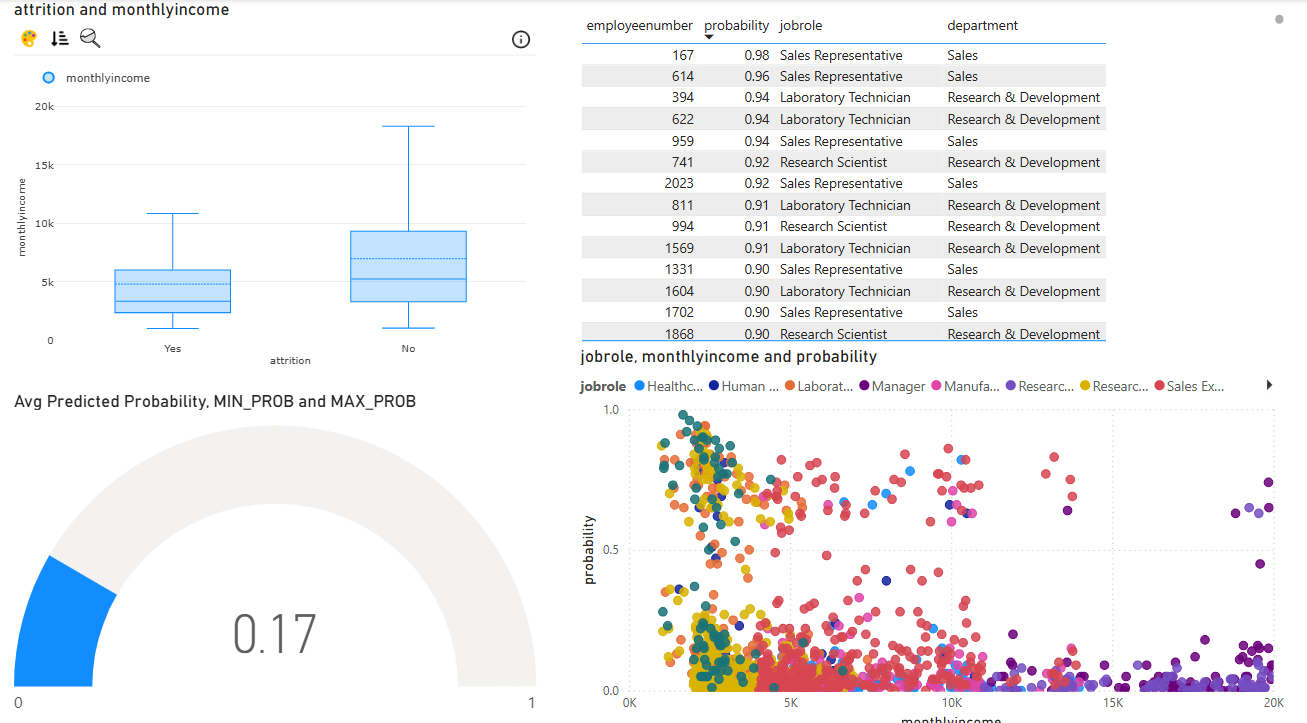

This screenshot's page, from the dashboard's own definition file:
{"tool":"powerbi","page":{"name":"Page 2","canvas":[1280,720],"ordinal":1},"visuals":[{"type":"boxandwhiskerwithpoints3B3DF5C11B683E5DB4E630DD7899B035","fields":{"col_2":["public int_hr_attrition_features.monthlyincome"],"col_0":["public int_hr_attrition_features.attrition"]},"box":[9.8,0,520.9,373],"z":0},{"type":"gauge","fields":{"Y":["public ml_attrition_predictions.Avg Predicted Probability"],"MaxValue":["public ml_attrition_predictions.MAX_PROB"],"MinValue":["public ml_attrition_predictions.MIN_PROB"]},"box":[10,383,521,337],"z":1000},{"type":"tableEx","fields":{"Values":["select","public ml_attrition_predictions.employeenumber","public ml_attrition_predictions.probability","public int_hr_attrition_features.jobrole","public int_hr_attrition_features.department"]},"box":[563.7,9.8,698.2,349.7],"z":2000},{"type":"scatterChart","fields":{"X":["public int_hr_attrition_features.monthlyincome"],"Y":["public ml_attrition_predictions.probability"],"Series":["public int_hr_attrition_features.jobrole"]},"box":[563.7,338.7,698.2,381.5],"z":2001}]}

Visuals, with their boxes in screenshot pixels (x1, y1, x2, y2), scaled from the page's 1280x720 canvas onto the 1307x723 screenshot:
boxandwhiskerwithpoints3B3DF5C11B683E5DB4E630DD7899B035 - public int_hr_attrition_features.monthlyincome x public int_hr_attrition_features.attrition: <bbox>10, 0, 542, 375</bbox>
gauge - public ml_attrition_predictions.Avg Predicted Probability x public ml_attrition_predictions.MAX_PROB: <bbox>10, 385, 542, 722</bbox>
tableEx - select x public ml_attrition_predictions.employeenumber: <bbox>576, 10, 1289, 361</bbox>
scatterChart - public int_hr_attrition_features.monthlyincome x public ml_attrition_predictions.probability: <bbox>576, 340, 1289, 722</bbox>
